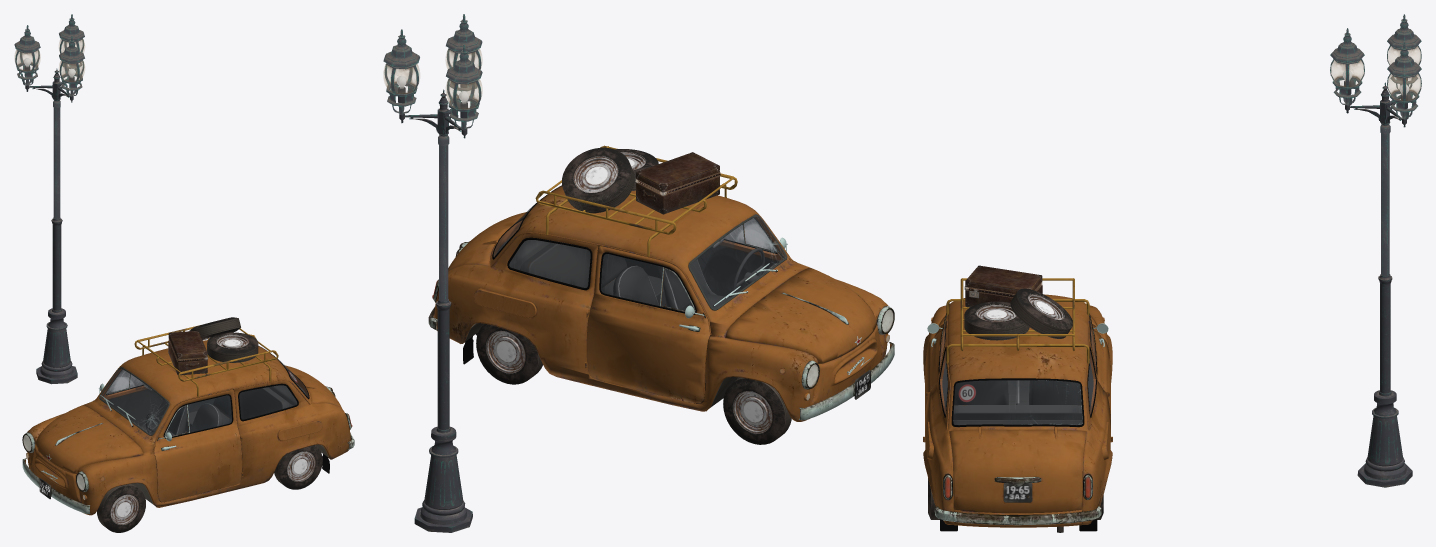
File: car_scene_lite.glb
3 views of the same model, side by side, from view 1: azimuth 30°, elevation 25°; view 2: azimuth 150°, elevation 25°; view 3: azimuth 270°, elevation 25° (orthographic). The views are drawn at different scales.
Parts seen in each view (by area): view 1: car_body, door_left, hood, interior_01, vintage_lantern_7_base, vintage_lantern_7_lantern_wall_base_1_0, wheel_00, wheel_01, door_right, wheel_004, railings, glass_00 (+7 smaller); view 2: car_body, door_right, hood, interior_01, vintage_lantern_7_base, vintage_lantern_7_lantern_wall_base_1_0, wheel_005, wheel_03, wheel_02, door_left, glass_01, chest_top_chest_0 (+8 smaller); view 3: car_body, back_door, interior_01, vintage_lantern_7_base, vintage_lantern_7_lantern_wall_base_1_0, wheel_005, wheel_004, railings, rear_bumper, chest_top_chest_0, vintage_lantern_glass_7_lantern_wall_glass_1_0, door_left (+1 smaller).
Boxes of the visible parts, x1,y1,x2,y2 form: car_body: [22, 340, 351, 515]; door_left: [154, 389, 243, 502]; hood: [35, 405, 143, 473]; interior_01: [100, 368, 308, 502]; vintage_lantern_7_base: [25, 68, 77, 384]; vintage_lantern_7_lantern_wall_base_1_0: [14, 14, 84, 218]; wheel_00: [97, 483, 145, 532]; wheel_01: [274, 445, 322, 489]; door_right: [99, 374, 162, 425]; wheel_004: [207, 332, 258, 362]; railings: [134, 325, 278, 397]; glass_00: [187, 395, 231, 432]; car_body: [433, 185, 894, 421]; door_right: [585, 246, 710, 403]; hood: [725, 268, 876, 363]; interior_01: [494, 216, 785, 403]; vintage_lantern_7_base: [399, 89, 472, 532]; vintage_lantern_7_lantern_wall_base_1_0: [383, 14, 482, 301]; wheel_005: [562, 147, 634, 213]; wheel_03: [723, 377, 791, 444]; wheel_02: [476, 323, 542, 384]; door_left: [697, 224, 787, 297]; glass_01: [601, 254, 663, 306]; chest_top_chest_0: [635, 152, 720, 195]; car_body: [923, 294, 1112, 531]; back_door: [949, 426, 1086, 513]; interior_01: [940, 332, 1095, 427]; vintage_lantern_7_base: [1345, 82, 1412, 487]; vintage_lantern_7_lantern_wall_base_1_0: [1330, 14, 1421, 276]; wheel_005: [1010, 288, 1072, 338]; wheel_004: [964, 301, 1029, 340]; railings: [946, 278, 1089, 363]; rear_bumper: [934, 506, 1101, 525]; chest_top_chest_0: [964, 265, 1042, 297]; vintage_lantern_glass_7_lantern_wall_glass_1_0: [1330, 46, 1421, 100]; door_left: [923, 314, 946, 440].
Size of what is drawn, in the model's own units: 329 by 383 by 386.
12 materials, 10 textured.
